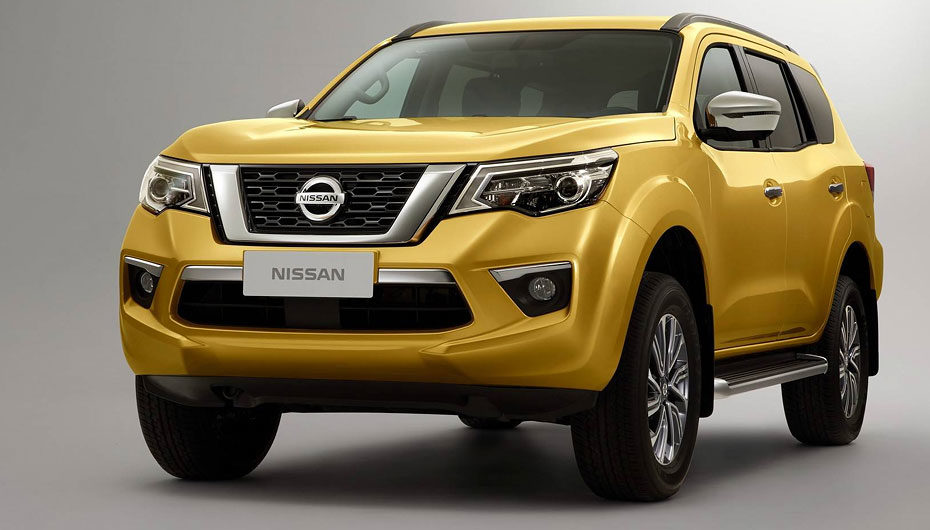pickup: (115, 13, 881, 503)
